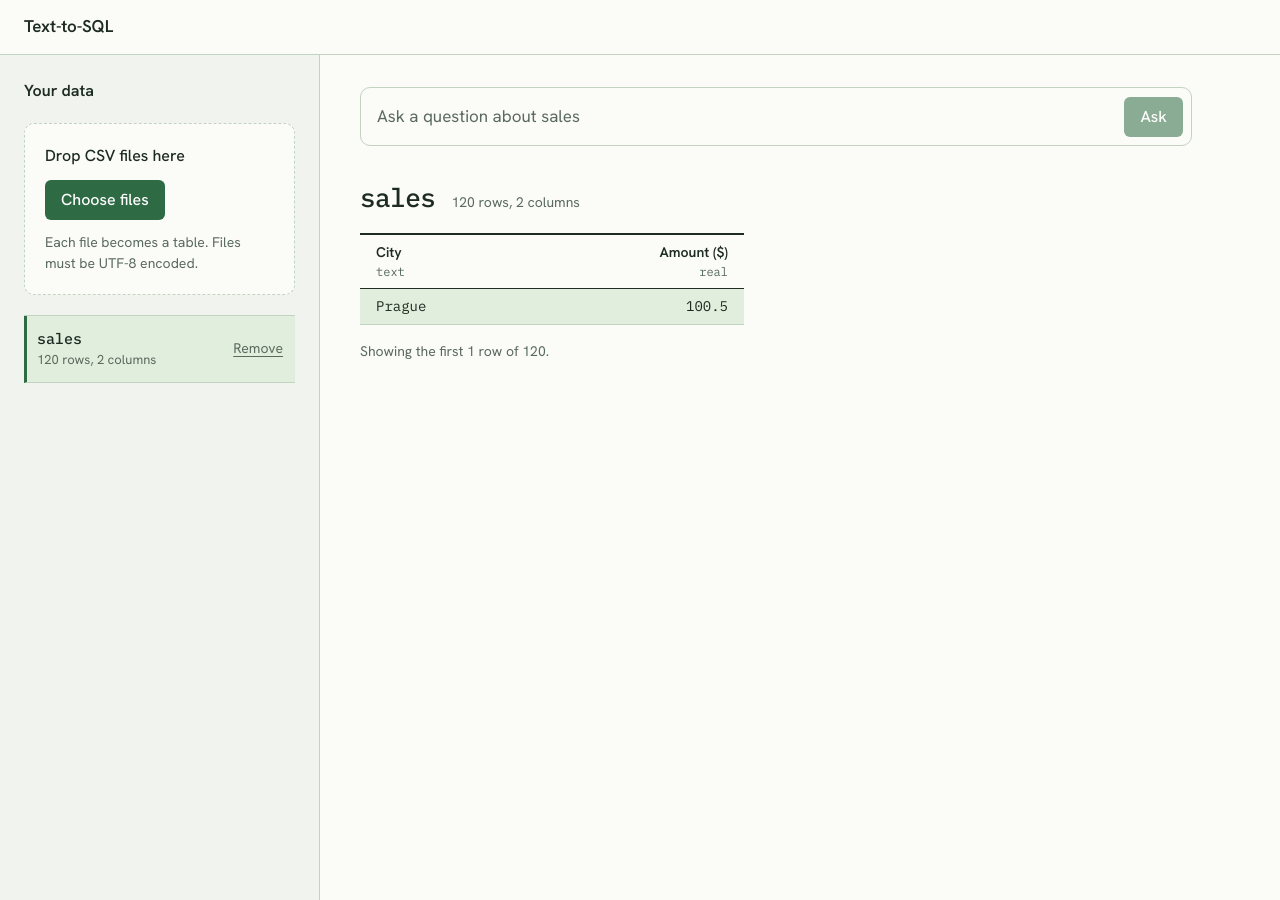
Scenario: asking questions › shows the answer as a table, with the SQL collapsed
This screenshot has width=1280, height=900.
Expected: the heading "sales" is shown, [360,178,435,217]
In the text box labelled "question": [745, 116] box [377,96,1112,137], type "  Total amount by city  "
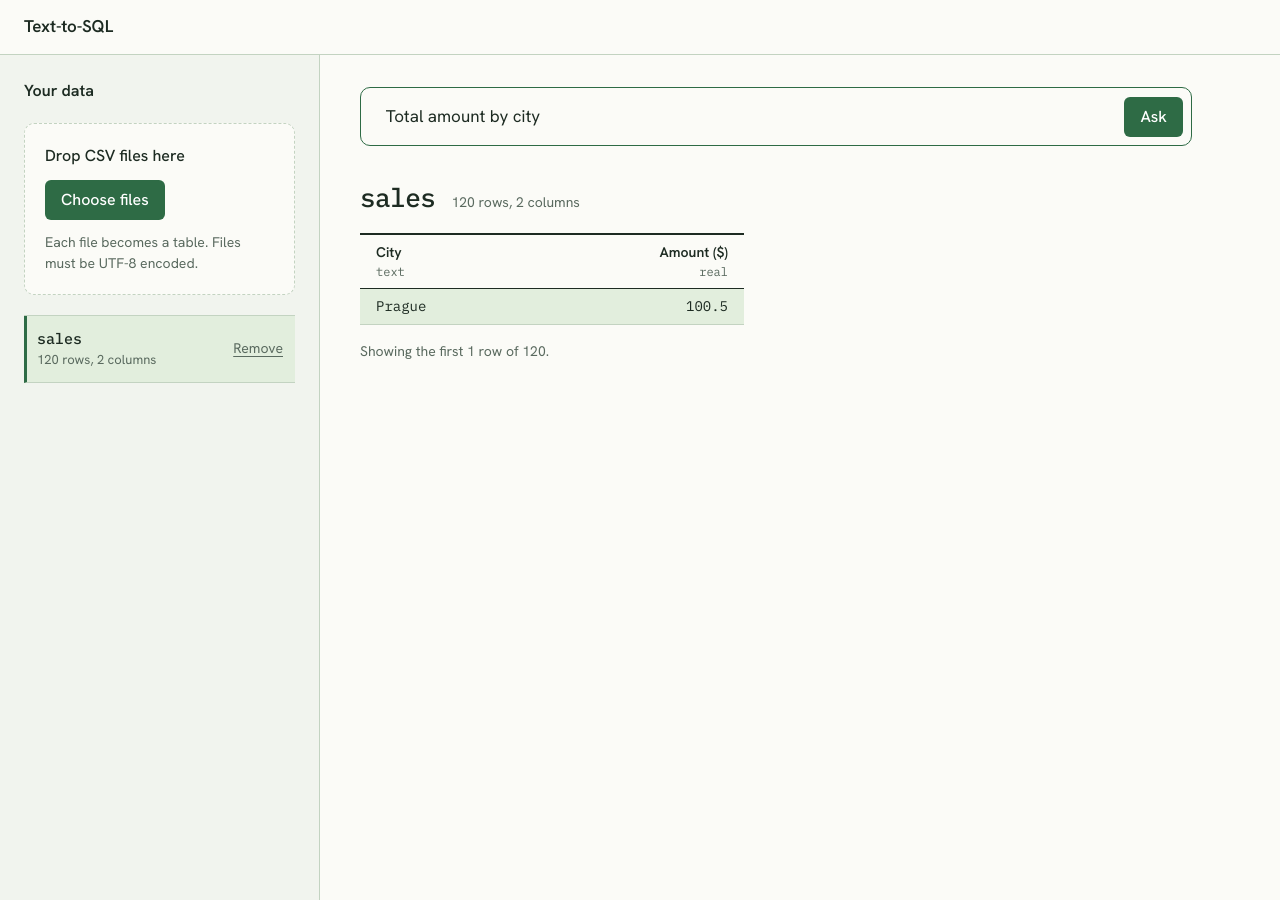
Click the button "Ask": [1154, 117] box [1124,97,1183,137]
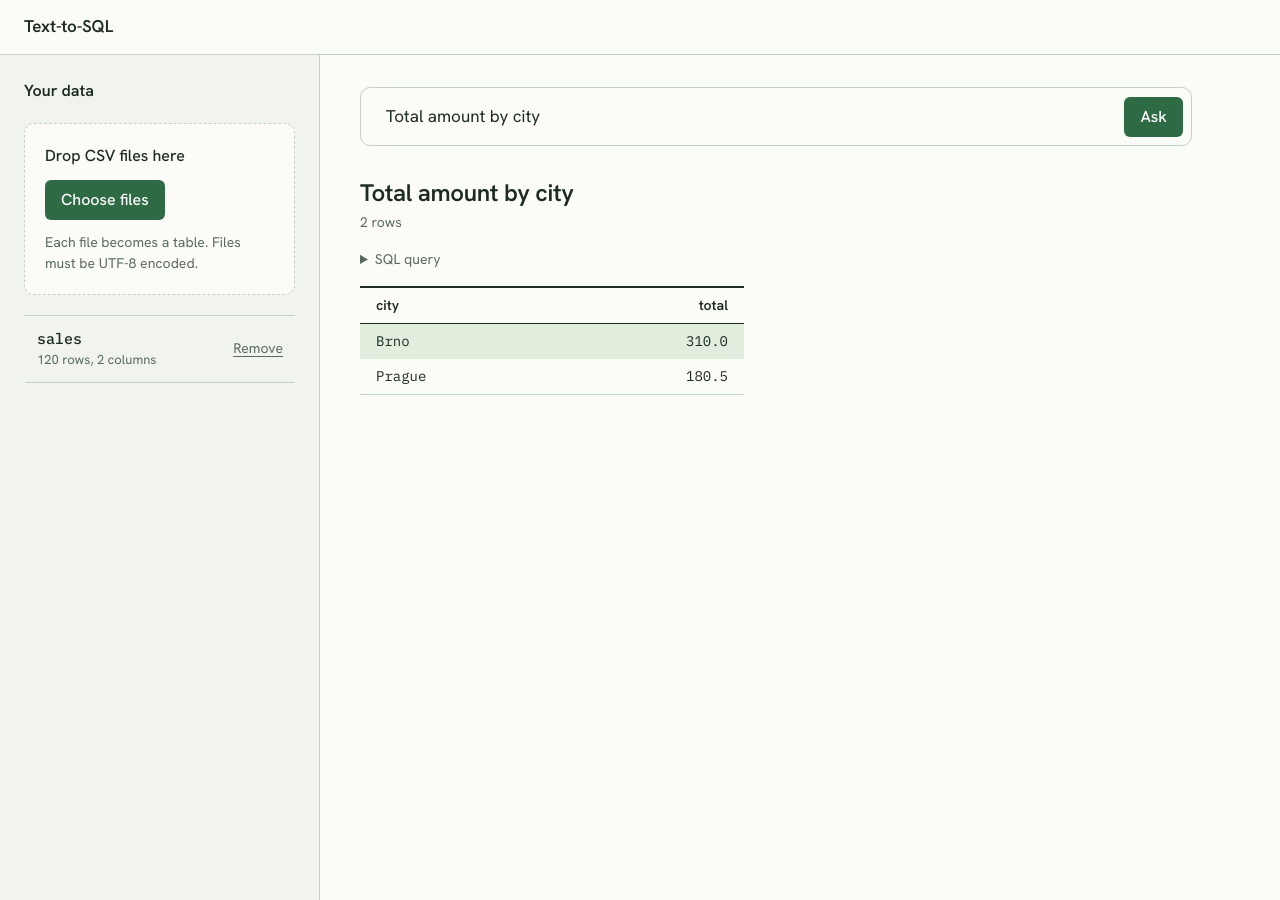
Expected: the heading "Total amount by city" is shown, [360,177,574,208]
Expected: the text "2 rows" is shown, [360,213,402,231]
Expected: the rows read "citytotal", "Brno310.0", "Prague180.5", in this order, [360,288,744,324]; [360,324,744,359]; [360,359,744,394]
Click the heading "SQL query": [408, 259] box [375,250,440,268]
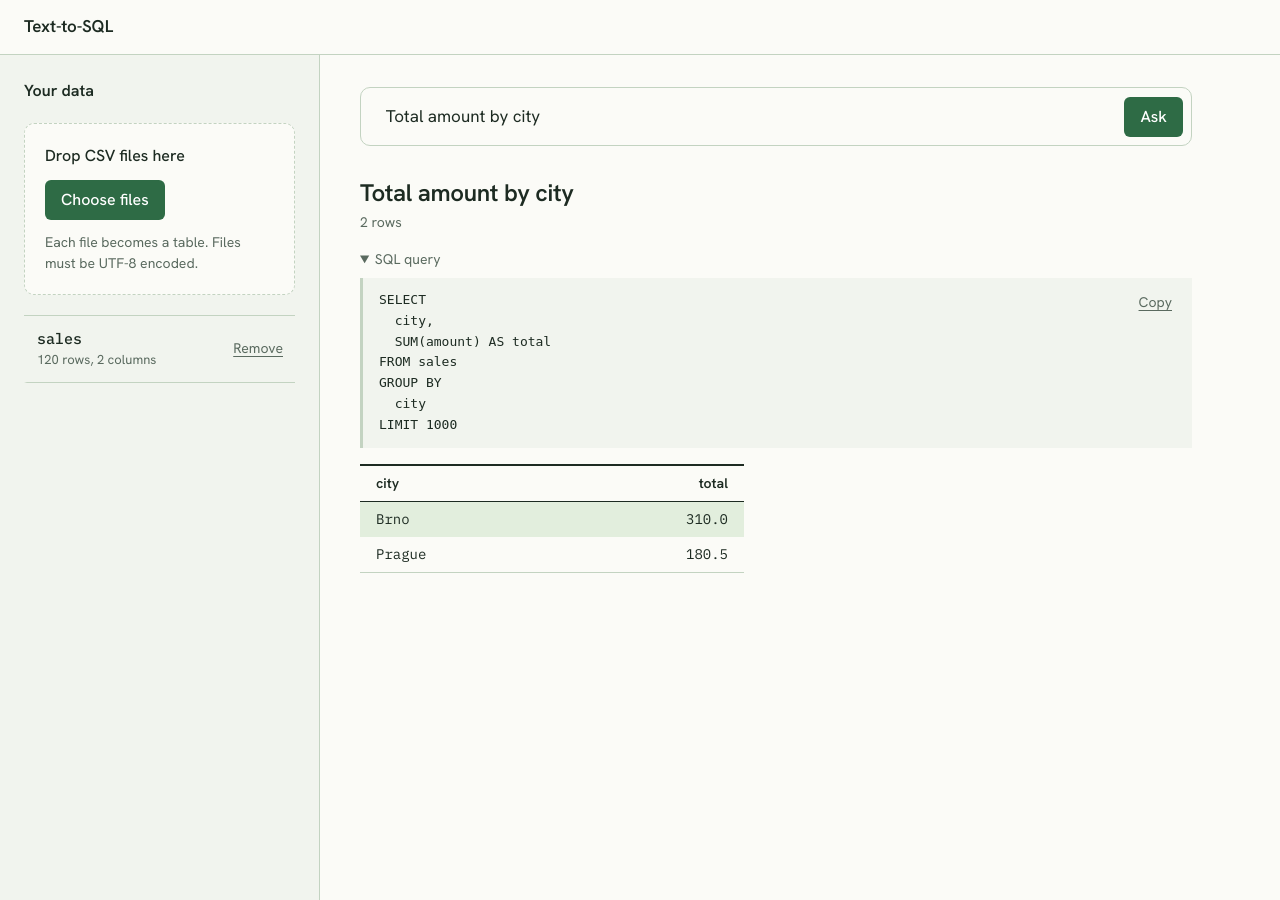
Expected: the text "GROUP BY" is shown, [379,292,551,432]
